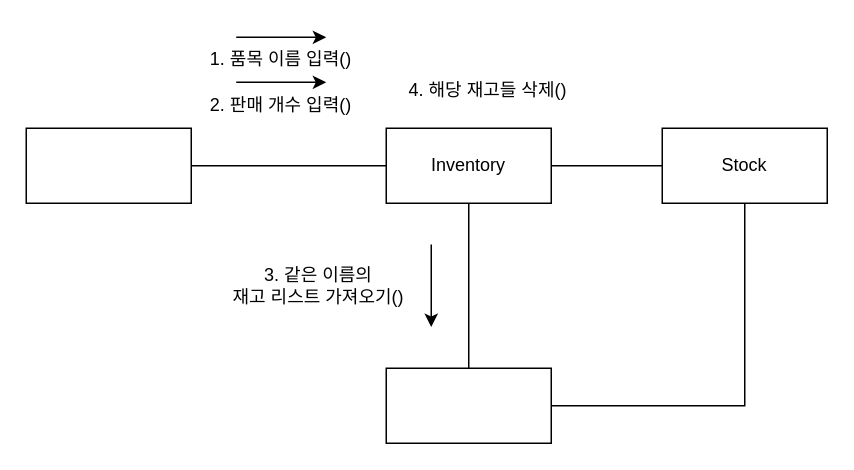
This 854x470 diagram has some shape labels left out. Each missing label, with the box of its shape:
Product: (385, 367, 551, 443)
Shop: (25, 127, 191, 203)
